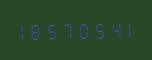eight: (32, 20, 46, 40)
five: (47, 20, 61, 40), (92, 19, 106, 39)
four: (107, 19, 121, 39)
one: (17, 21, 31, 40), (122, 19, 136, 38)
seven: (62, 20, 76, 39)
zero: (77, 19, 91, 39)
